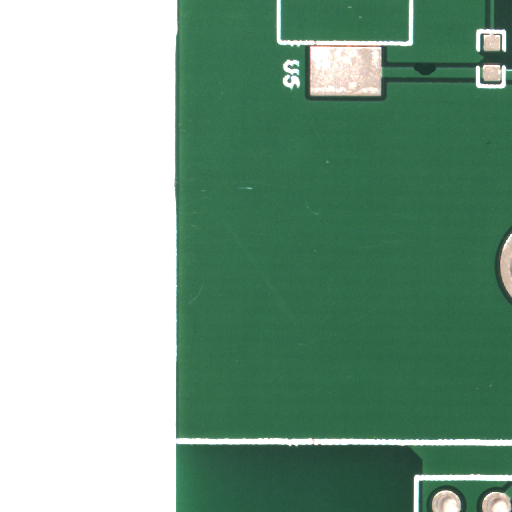Mouse_bite: (425, 67, 454, 85)
